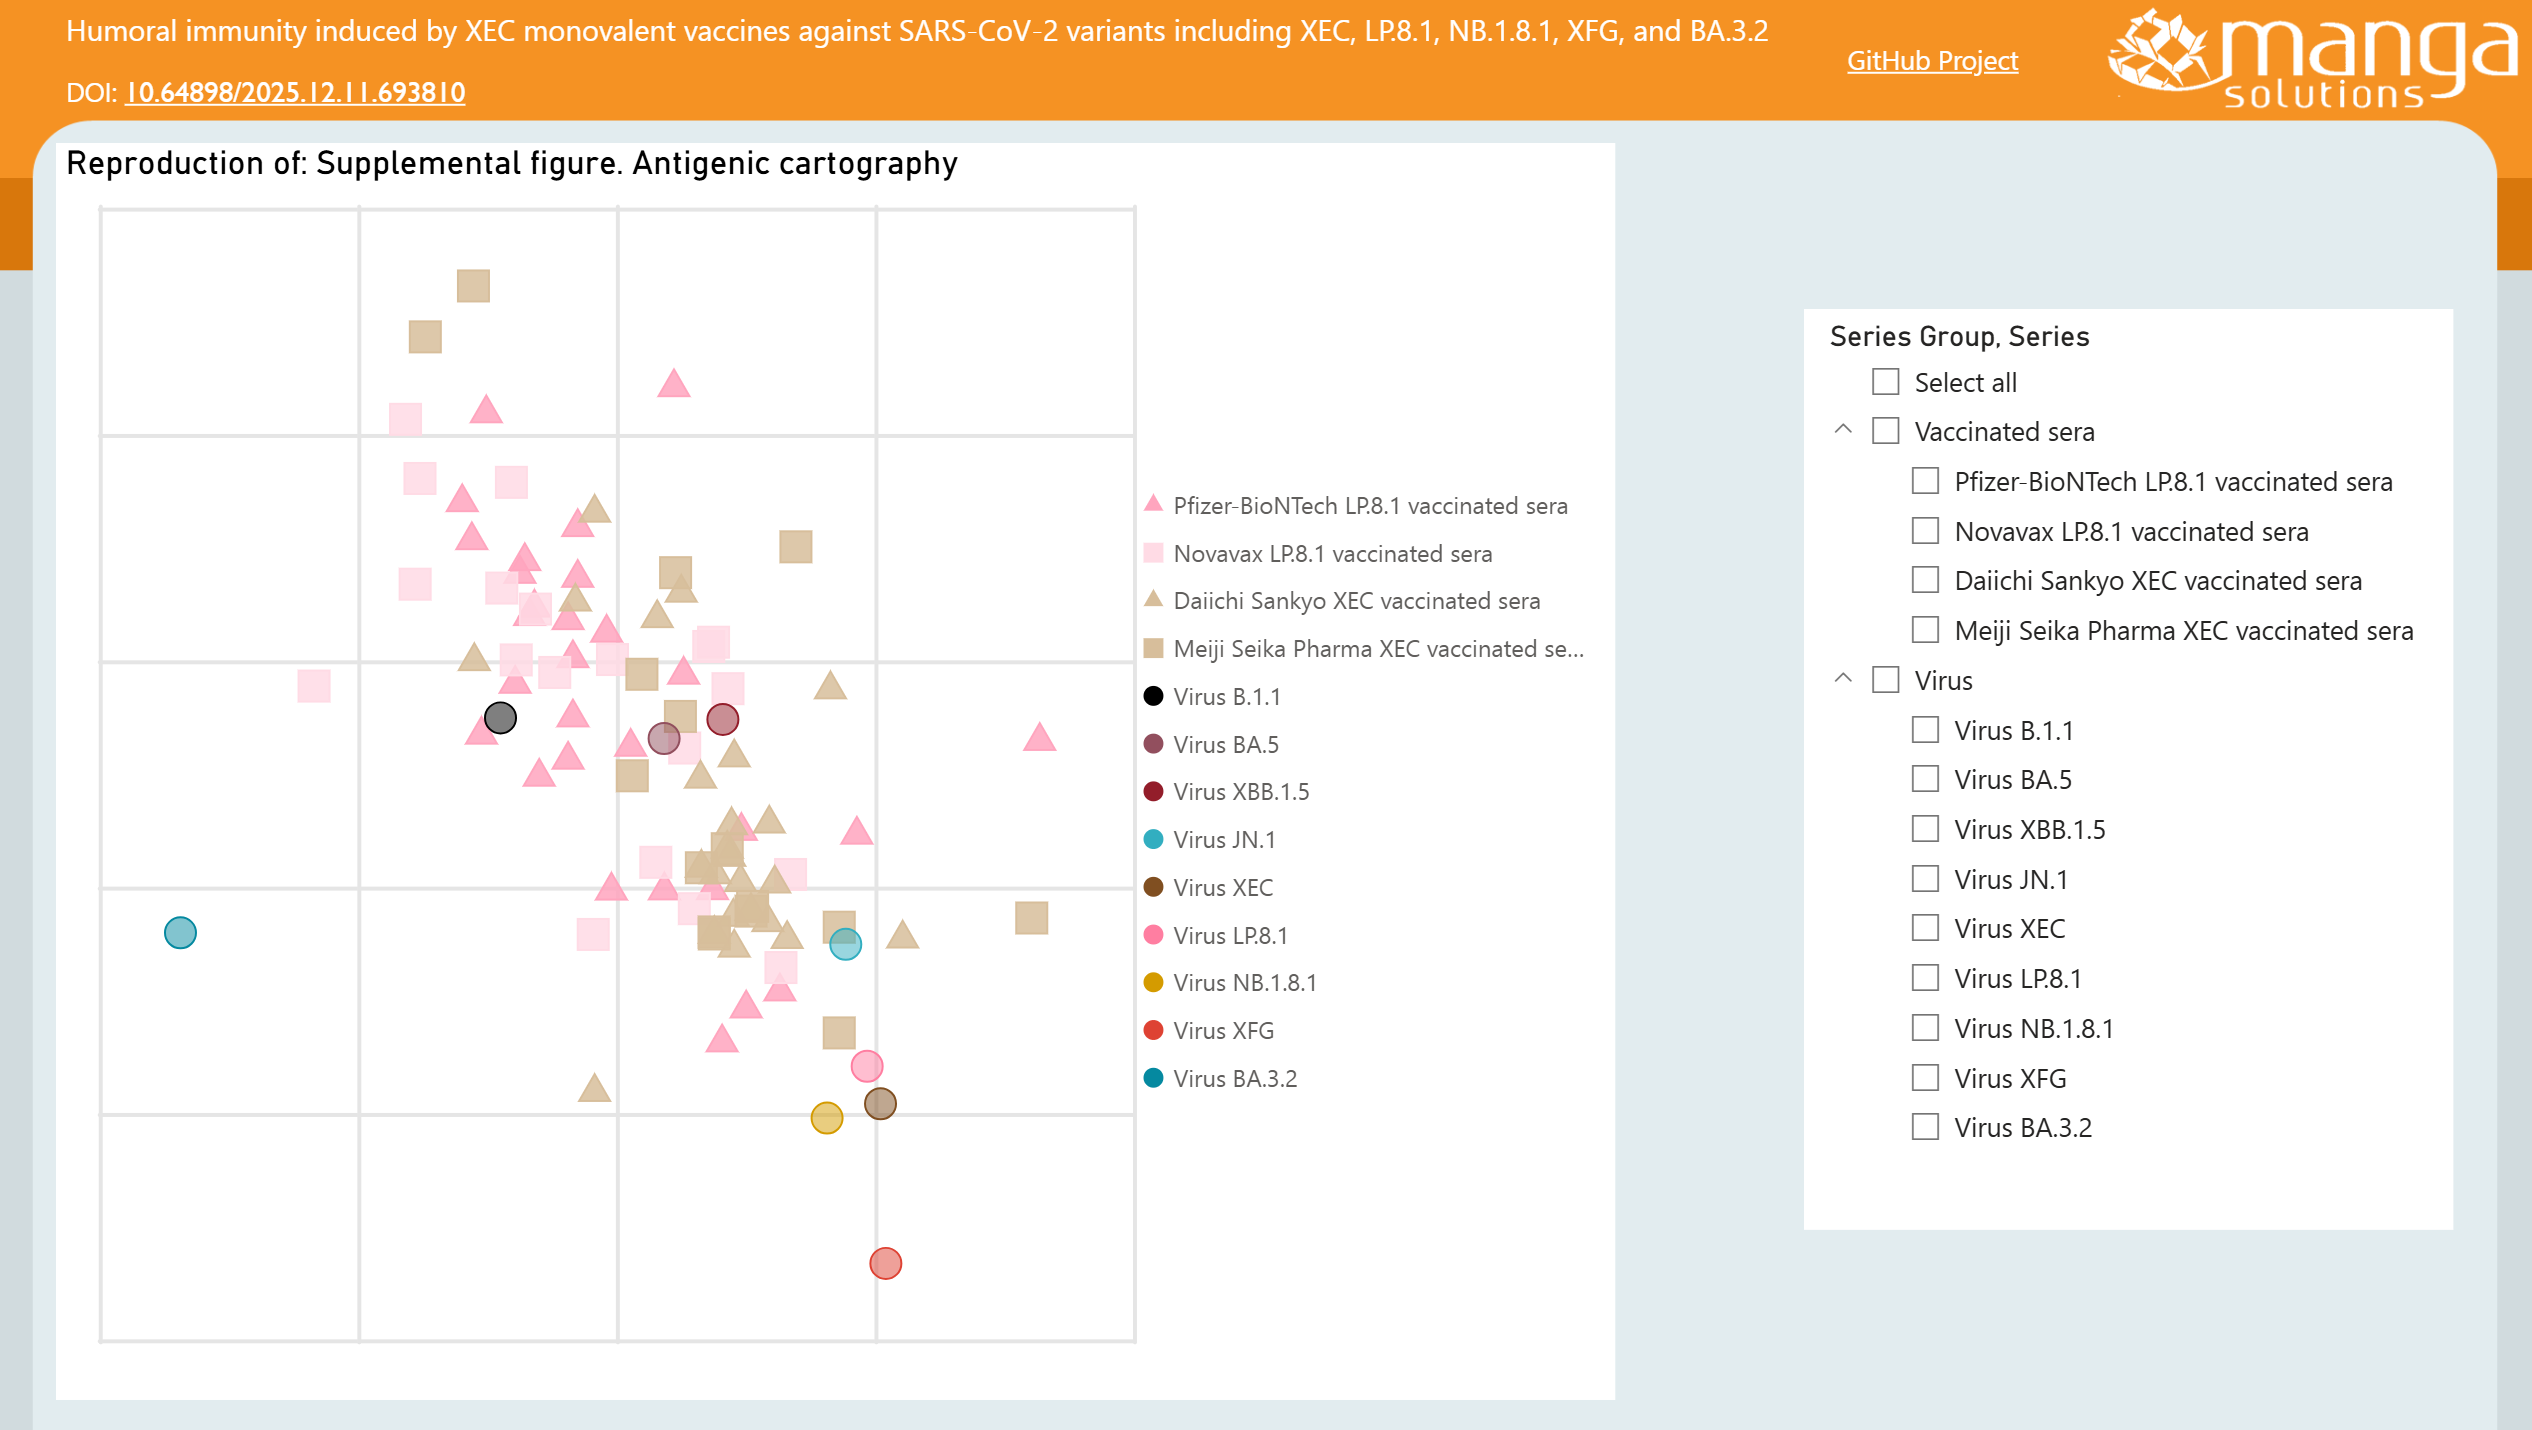

The dashboard page shown, as its layout file describes it:
{"tool":"powerbi","page":{"name":"Repro","canvas":[1280,720],"ordinal":1},"visuals":[{"type":"textbox","box":[32,0,880,48],"z":0},{"type":"actionButton","box":[1056,0,224,64],"z":1000},{"type":"textbox","box":[896,16,128,32],"z":2000},{"type":"textbox","box":[32,32,304,32],"z":3000},{"type":"scatterChart","title":"Reproduction of: Supplemental figure. Antigenic cartography ","fields":{"Series":["Antigenic cartography.Series"],"Y":["Antigenic cartography.Y"],"X":["Antigenic cartography.X"]},"box":[32,72,784,632],"z":4000},{"type":"slicer","fields":{"Values":["Antigenic cartography.Series Group","Antigenic cartography.Series"]},"box":[911.6,155.5,326.4,462.8],"z":5000}]}

Visuals, with their boxes in screenshot pixels (x1, y1, x2, y2), scaled from the page's 1280x720 canvas onto the 2532x1430 screenshot:
textbox: region(63, 0, 1804, 95)
actionButton: region(2089, 0, 2531, 127)
textbox: region(1772, 32, 2026, 95)
textbox: region(63, 64, 665, 127)
"Reproduction of: Supplemental figure. Antigenic cartography " scatterChart: region(63, 143, 1614, 1398)
slicer - Antigenic cartography.Series Group x Antigenic cartography.Series: region(1803, 309, 2449, 1228)
